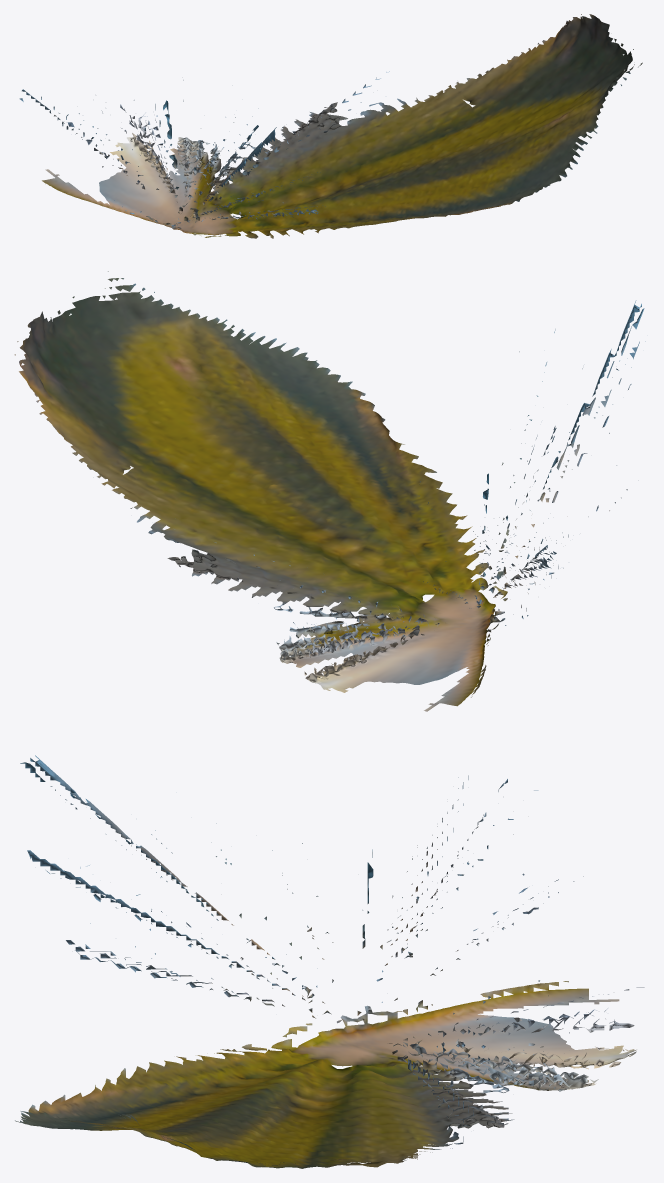
File: echo-beach-collider.glb
3 renders of one model, top to bottom at view 1: azimuth 30°, elevation 25°; view 2: azimuth 150°, elevation 25°; view 3: azimuth 270°, elevation 25°, orthographic. The views are drawn at different scales.
Visible parts, largest first — view 1: world; view 2: world; view 3: world.
Part boxes in pixels (<box>): world: <box>19,14,642,238</box>; world: <box>14,271,645,711</box>; world: <box>15,755,644,1168</box>.
Bounding box in the file's own units: 496 × 190 × 370.
